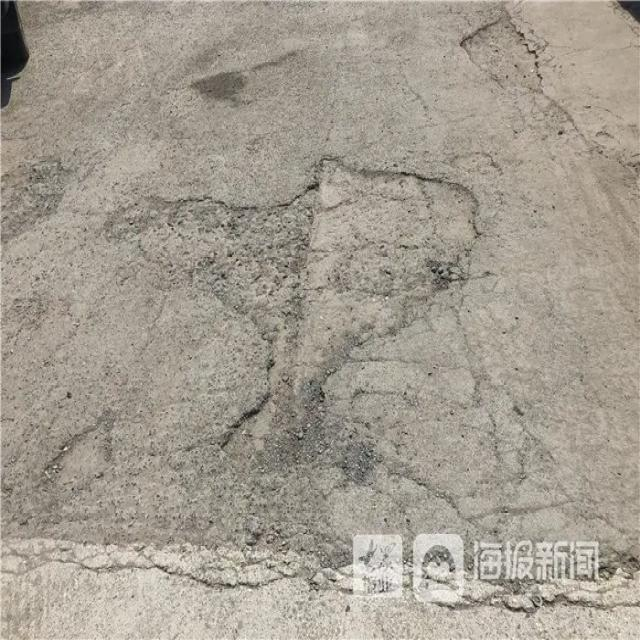Pothole: (117, 155, 486, 464), (459, 12, 544, 96)
